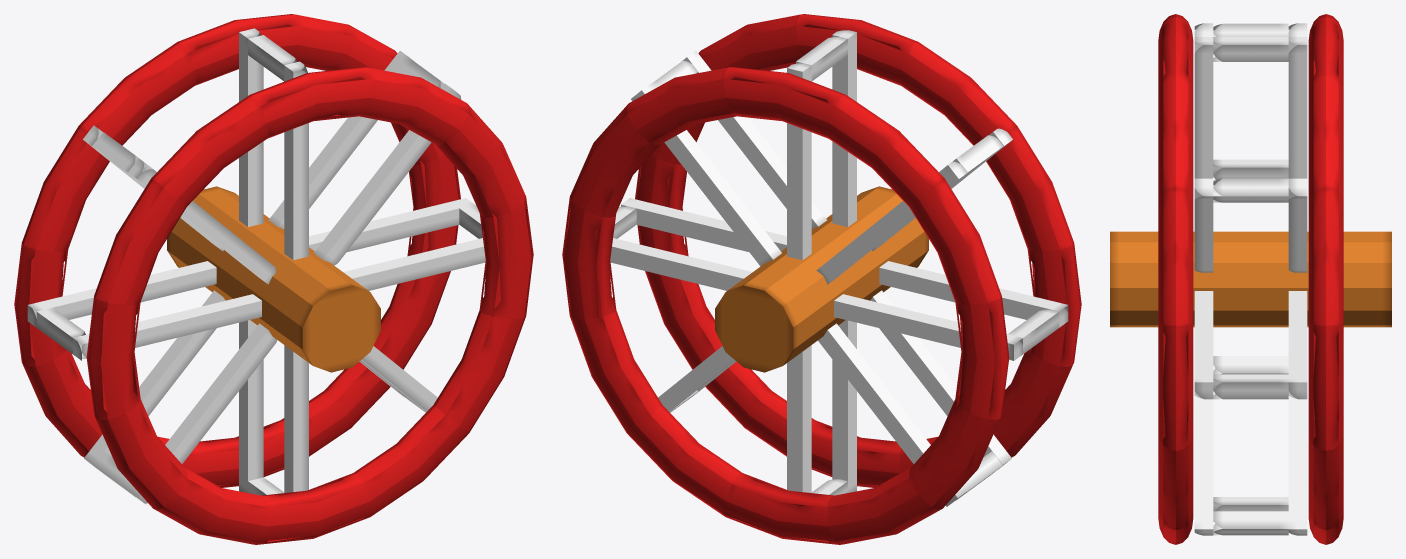
The model's file is wheel.obj.
3 views of the same model, side by side, from view 1: azimuth 30°, elevation 25°; view 2: azimuth 150°, elevation 25°; view 3: azimuth 270°, elevation 25° (orthographic). The views are drawn at different scales.
Parts seen in each view (by area): view 1: torus, torus.000, cylinder, cube.012, cube.015, cube.004, cube.008, cube.006, cube.010, cube.003, cube.007, cube.005 (+9 smaller); view 2: torus.000, torus, cylinder, cube.011, cube.016, cube.003, cube.007, cube.005, cube.009, cube.004, cube.008, cube.006 (+9 smaller); view 3: torus, torus.000, cylinder, cube.003, cube.004, cube.013, cube.014, cube.009, cube.010, cube.021, cube.020, cube.024 (+7 smaller).
Part boxes in pixels (x1=…): torus: x1=86, y1=67, x2=533, y2=544; torus.000: x1=14, y1=14, x2=460, y2=487; cylinder: x1=167, y1=186, x2=380, y2=372; cube.012: x1=314, y1=83, x2=461, y2=265; cube.015: x1=129, y1=323, x2=277, y2=505; cube.004: x1=284, y1=61, x2=308, y2=260; cube.008: x1=73, y1=294, x2=261, y2=360; cube.006: x1=284, y1=345, x2=308, y2=492; cube.010: x1=343, y1=238, x2=485, y2=290; cube.003: x1=239, y1=28, x2=263, y2=226; cube.007: x1=27, y1=261, x2=216, y2=327; cube.005: x1=239, y1=320, x2=263, y2=492; torus.000: x1=562, y1=67, x2=1009, y2=544; torus: x1=635, y1=14, x2=1081, y2=487; cylinder: x1=715, y1=186, x2=928, y2=372; cube.011: x1=631, y1=83, x2=781, y2=266; cube.016: x1=818, y1=323, x2=966, y2=506; cube.003: x1=787, y1=63, x2=811, y2=260; cube.007: x1=834, y1=294, x2=1022, y2=360; cube.005: x1=787, y1=345, x2=811, y2=492; cube.009: x1=610, y1=238, x2=752, y2=290; cube.004: x1=832, y1=30, x2=856, y2=226; cube.008: x1=879, y1=261, x2=1068, y2=327; cube.006: x1=832, y1=320, x2=856, y2=492; torus: x1=1158, y1=14, x2=1193, y2=544; torus.000: x1=1308, y1=14, x2=1343, y2=544; cylinder: x1=1110, y1=231, x2=1391, y2=327; cube.003: x1=1288, y1=37, x2=1307, y2=178; cube.004: x1=1194, y1=37, x2=1213, y2=178; cube.013: x1=1194, y1=395, x2=1213, y2=535; cube.014: x1=1288, y1=395, x2=1307, y2=535; cube.009: x1=1288, y1=291, x2=1307, y2=399; cube.010: x1=1194, y1=291, x2=1213, y2=399; cube.021: x1=1213, y1=374, x2=1288, y2=399; cube.020: x1=1213, y1=37, x2=1288, y2=61; cube.024: x1=1213, y1=511, x2=1288, y2=535.
Bounding box in the file's own units: 1.77 × 1.77 × 0.9375.
